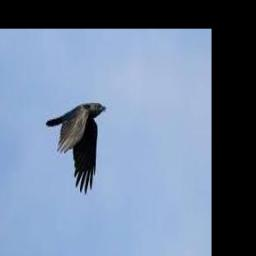Crow: (46, 103, 107, 194)
